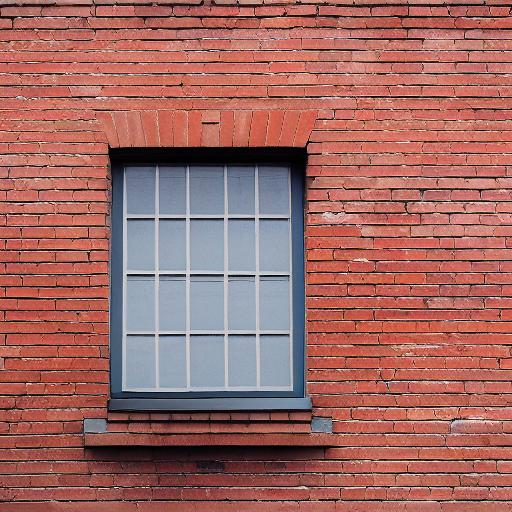Window: (86, 113, 342, 448)
